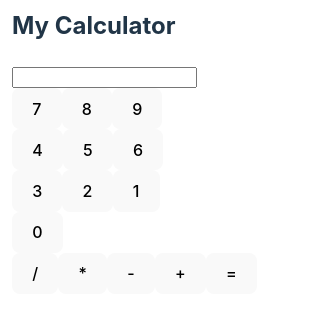
Calculator › Should make the calculation after pressing the = button and replace the input with the result of the operation
Click the button "6". click: (138,150)
box: [113,129,163,170]
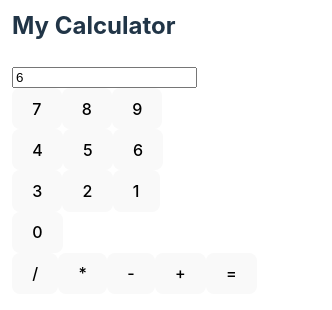
Click the button "+". click: (180,273)
box: [155,253,206,294]
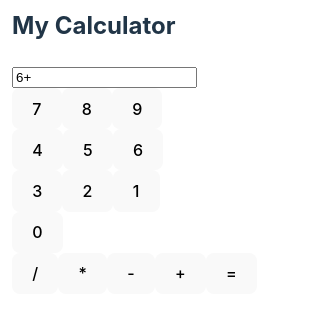
Click the button "9". click: (137,108)
box: [112,88,162,129]
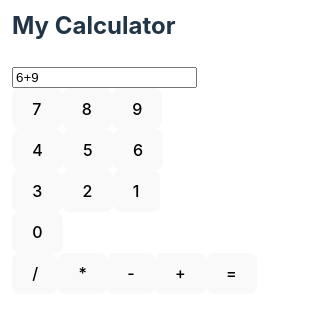
Check: the field showing "6+9" is shown, box [12,67,197,88]
Click the button "=". click: (231,273)
box: [206,253,257,294]
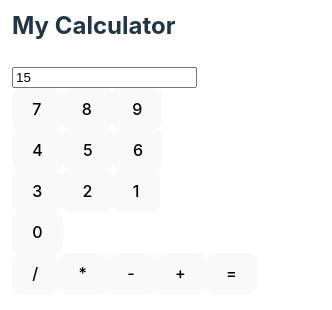
Check: the field showing "15" is shown, box [12,67,197,88]
